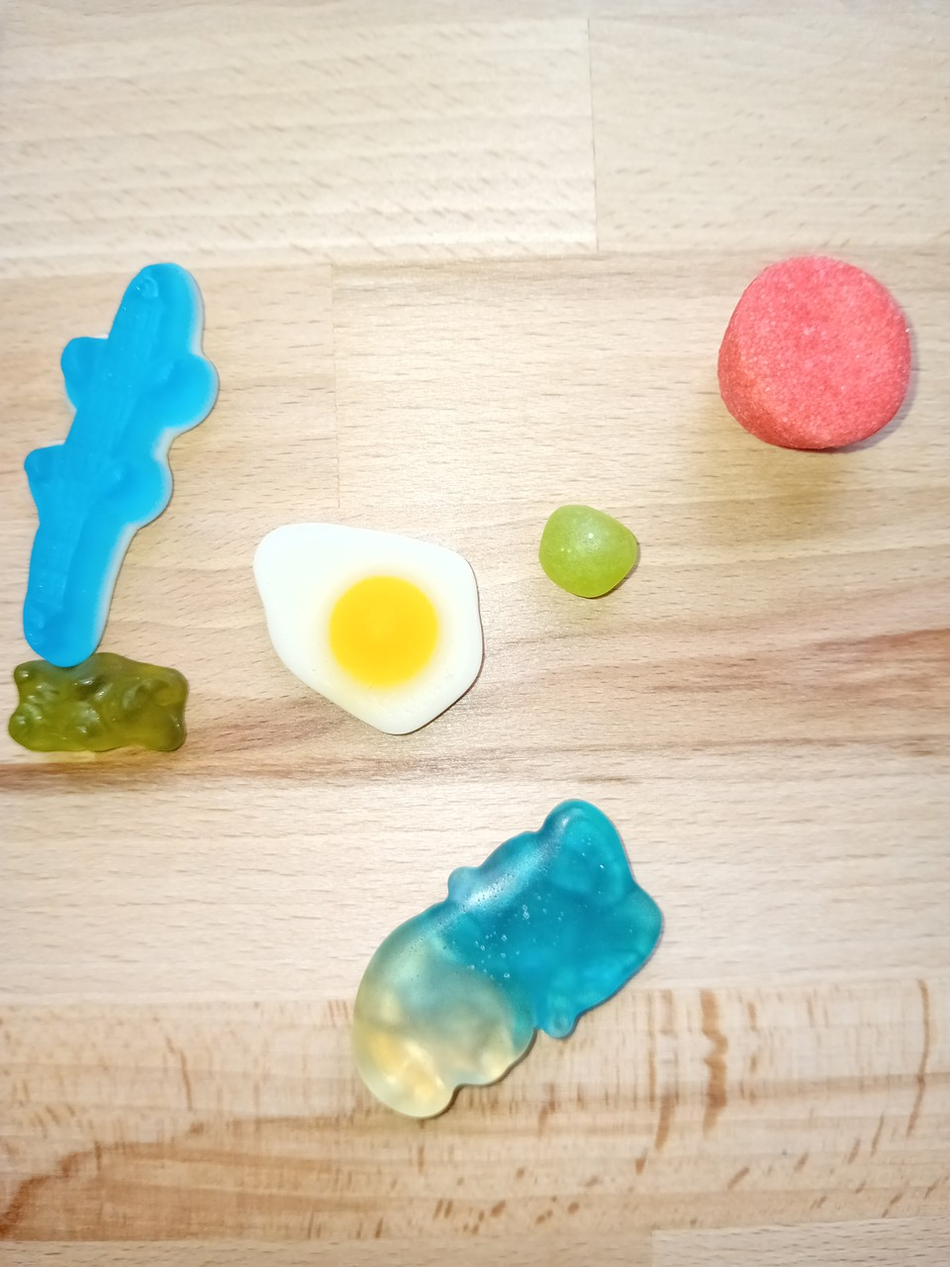crocodile_bleu: (18, 257, 232, 669)
dragibus_vert: (533, 500, 648, 607)
oeuf_oeuf: (248, 517, 493, 747)
ourson_vert: (7, 650, 205, 765)
schtroumpf_bleu-blanc: (342, 794, 678, 1123)
tagada_fraise: (711, 254, 916, 455)
